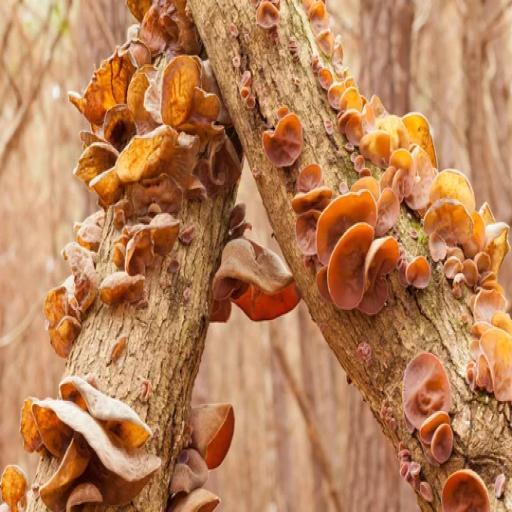mushroom: (66, 0, 238, 208), (0, 370, 162, 512), (293, 166, 434, 316), (325, 75, 440, 215), (418, 165, 512, 294), (206, 230, 307, 324), (39, 214, 104, 353), (103, 208, 185, 308), (395, 347, 459, 466), (462, 286, 512, 399), (306, 0, 357, 91), (164, 448, 222, 512), (259, 101, 307, 170), (192, 397, 233, 463), (440, 469, 487, 512)
